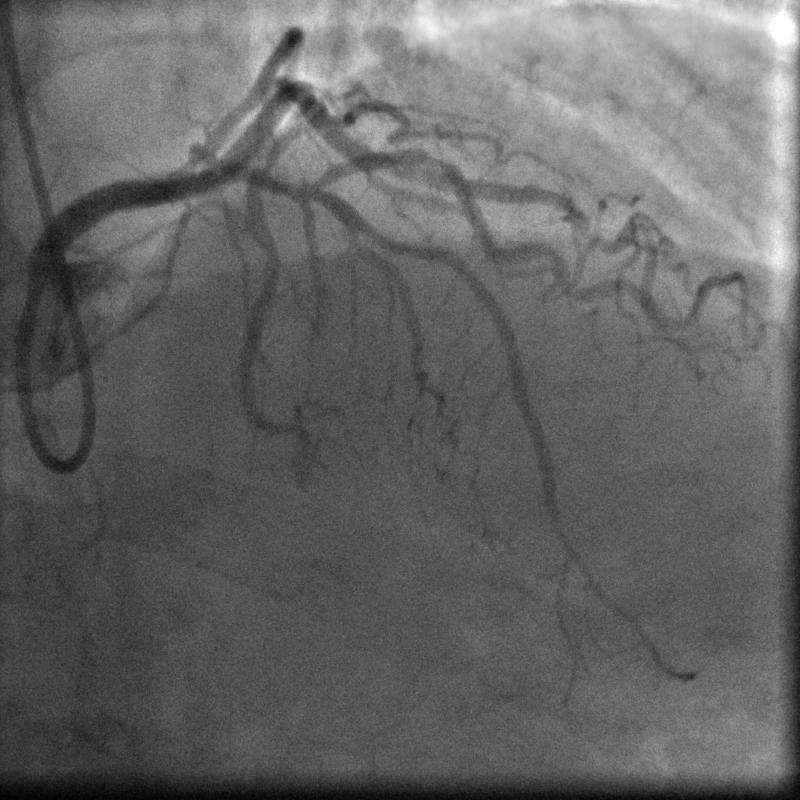Stenosis: (408, 145, 459, 176)
